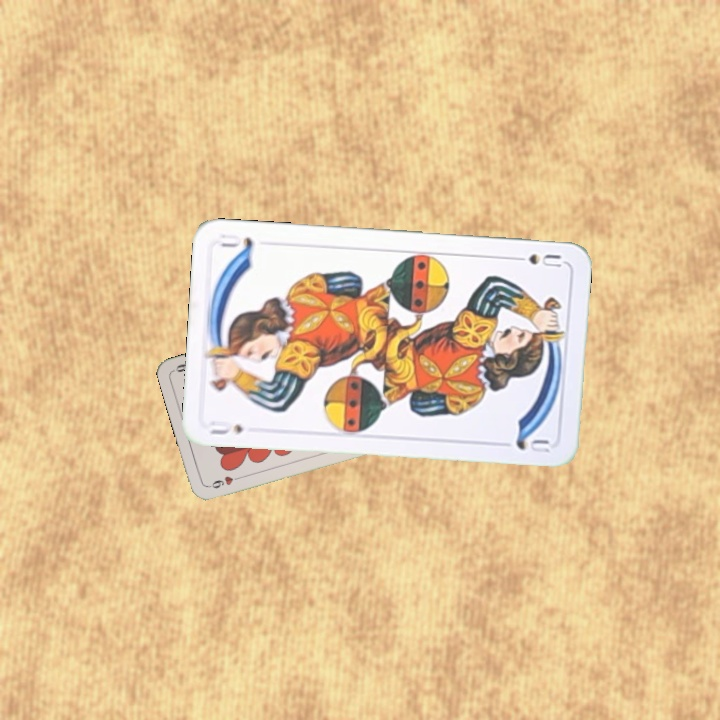H9: (204, 472, 244, 491)
SU: (507, 249, 565, 270), (206, 419, 246, 438)
